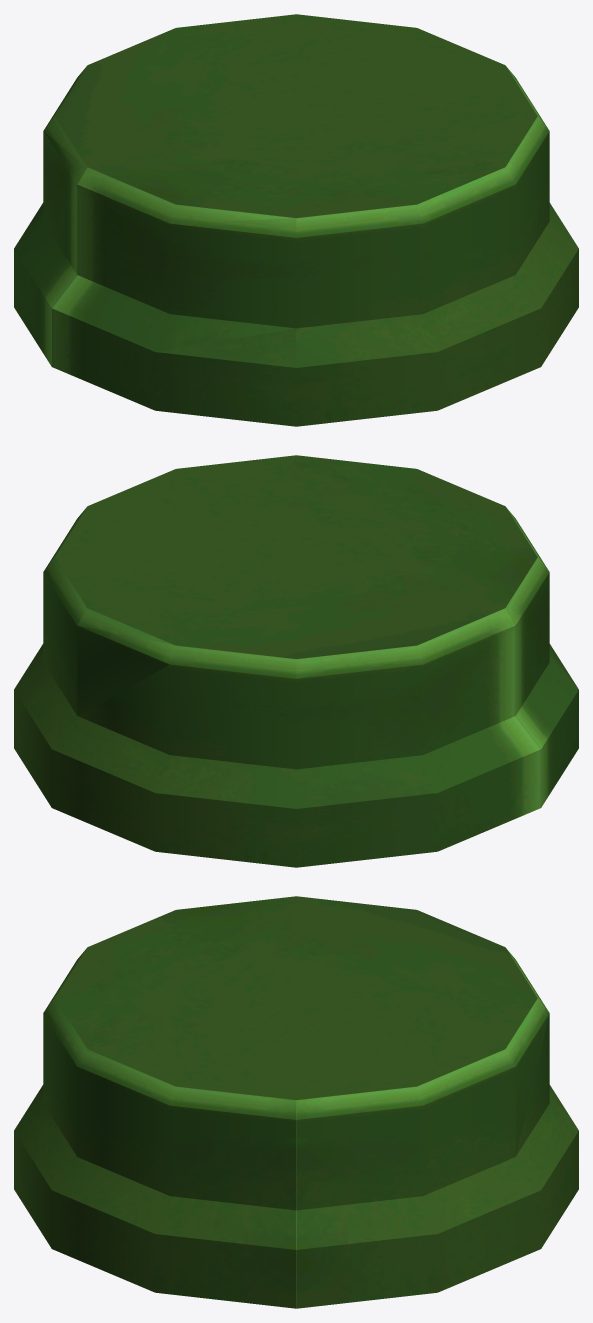
The model's file is button_border.FBX.
The picture shows the model from 3 angles, top to bottom: view 1: azimuth 30°, elevation 25°; view 2: azimuth 150°, elevation 25°; view 3: azimuth 270°, elevation 25°; orthographic projection.
Visible parts, largest first — view 1: Mesh_0018; view 2: Mesh_0018; view 3: Mesh_0018.
Boxes of the visible parts, bbox=[...] form: Mesh_0018: bbox=[14, 14, 578, 426]; Mesh_0018: bbox=[14, 455, 578, 867]; Mesh_0018: bbox=[14, 896, 578, 1308].
Bounding box in the file's own units: 150 × 55.97 × 150.
